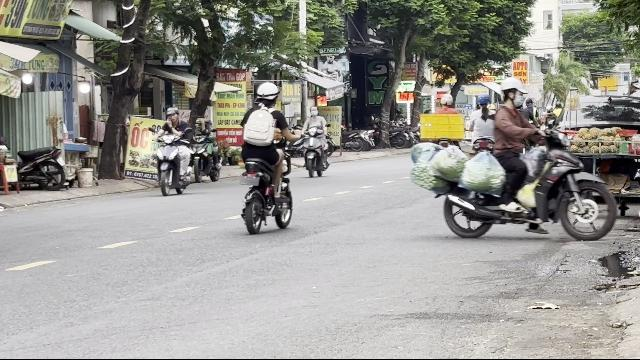helmet: (500, 76, 524, 106), (255, 82, 279, 106), (164, 106, 180, 124)
motorcyclist: (414, 73, 620, 241), (236, 80, 296, 234), (150, 106, 194, 197)
